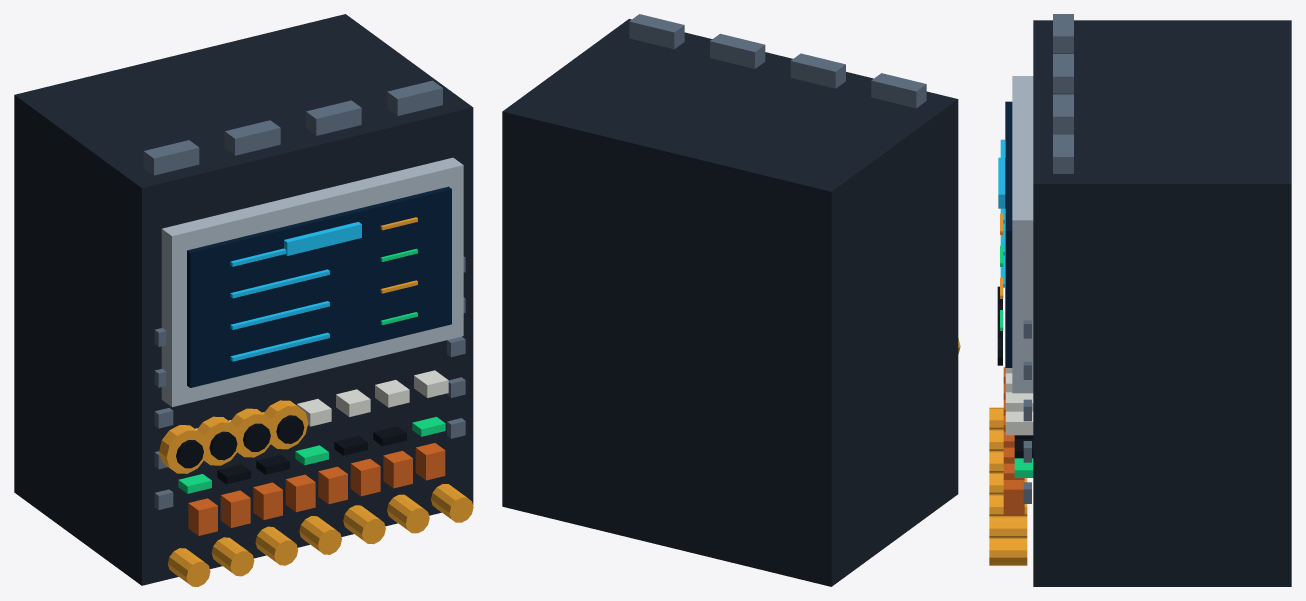
The model's file is 34_L87_MotorInverterDriveA.fbx.
The picture shows the model from 3 angles, left to right: view 1: azimuth 30°, elevation 25°; view 2: azimuth 150°, elevation 25°; view 3: azimuth 270°, elevation 25°; orthographic projection.
Parts seen in each view (by area): view 1: L87_MotorInverterDriveA, L87_MotorInverterDriveA_Part_0010, L87_MotorInverterDriveA_Part_0011, L87_MotorInverterDriveA_Part_0012, L87_MotorInverterDriveA_Part_0018, L87_MotorInverterDriveA_Part_0014, L87_MotorInverterDriveA_Part_0016, L87_MotorInverterDriveA_Part_0015, L87_MotorInverterDriveA_Part_0017, L87_MotorInverterDriveA_Part_0019, L87_MotorInverterDriveA_Part_0013; view 2: L87_MotorInverterDriveA, L87_MotorInverterDriveA_Part_0010; view 3: L87_MotorInverterDriveA, L87_MotorInverterDriveA_Part_0010, L87_MotorInverterDriveA_Part_0011.
Boxes of the visible parts, <box> form: L87_MotorInverterDriveA: <box>14,14,473,586</box>; L87_MotorInverterDriveA_Part_0010: <box>143,80,442,175</box>; L87_MotorInverterDriveA_Part_0011: <box>284,222,361,255</box>; L87_MotorInverterDriveA_Part_0012: <box>159,425,207,473</box>; L87_MotorInverterDriveA_Part_0018: <box>263,400,308,449</box>; L87_MotorInverterDriveA_Part_0014: <box>197,416,241,465</box>; L87_MotorInverterDriveA_Part_0016: <box>230,408,272,457</box>; L87_MotorInverterDriveA_Part_0015: <box>209,431,237,460</box>; L87_MotorInverterDriveA_Part_0017: <box>243,423,270,451</box>; L87_MotorInverterDriveA_Part_0019: <box>276,415,304,443</box>; L87_MotorInverterDriveA_Part_0013: <box>176,440,203,468</box>; L87_MotorInverterDriveA: <box>502,19,958,586</box>; L87_MotorInverterDriveA_Part_0010: <box>629,14,926,108</box>; L87_MotorInverterDriveA: <box>989,20,1291,586</box>; L87_MotorInverterDriveA_Part_0010: <box>1053,14,1073,173</box>; L87_MotorInverterDriveA_Part_0011: <box>998,157,1005,208</box>.
Size of the model in its own units: 104 by 124 by 81.09.
